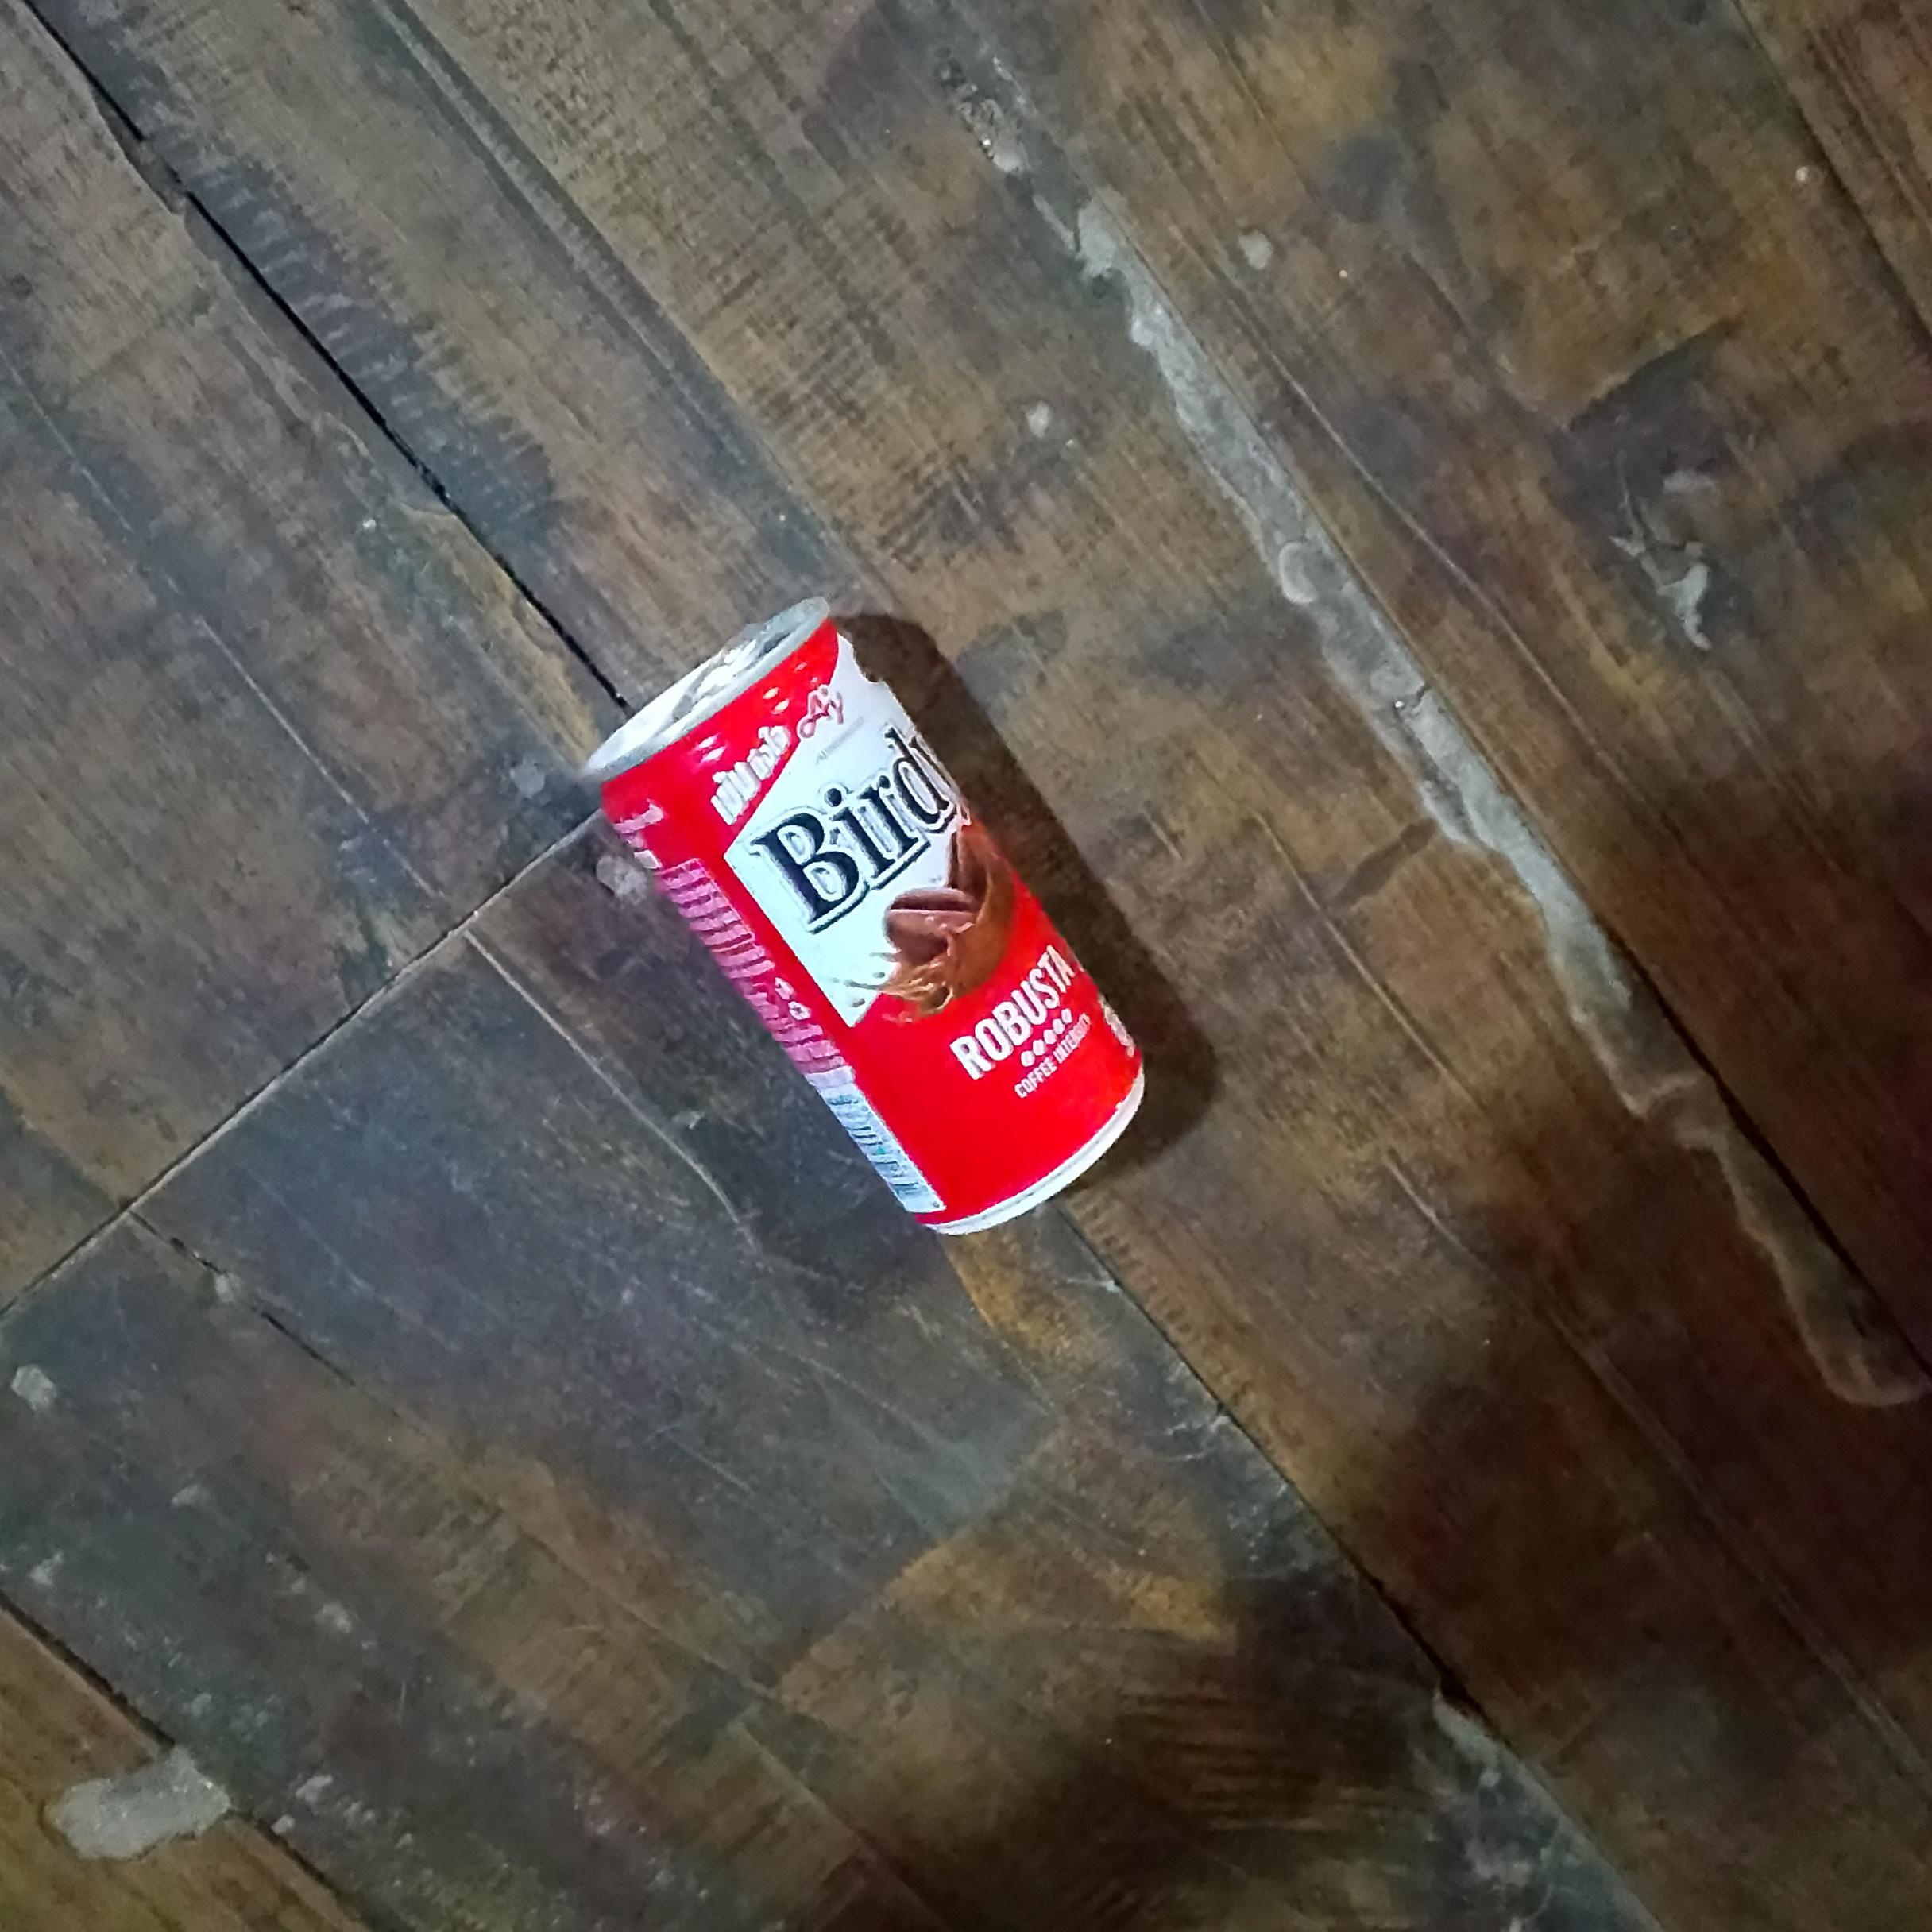can: (587, 602, 1141, 1231)
